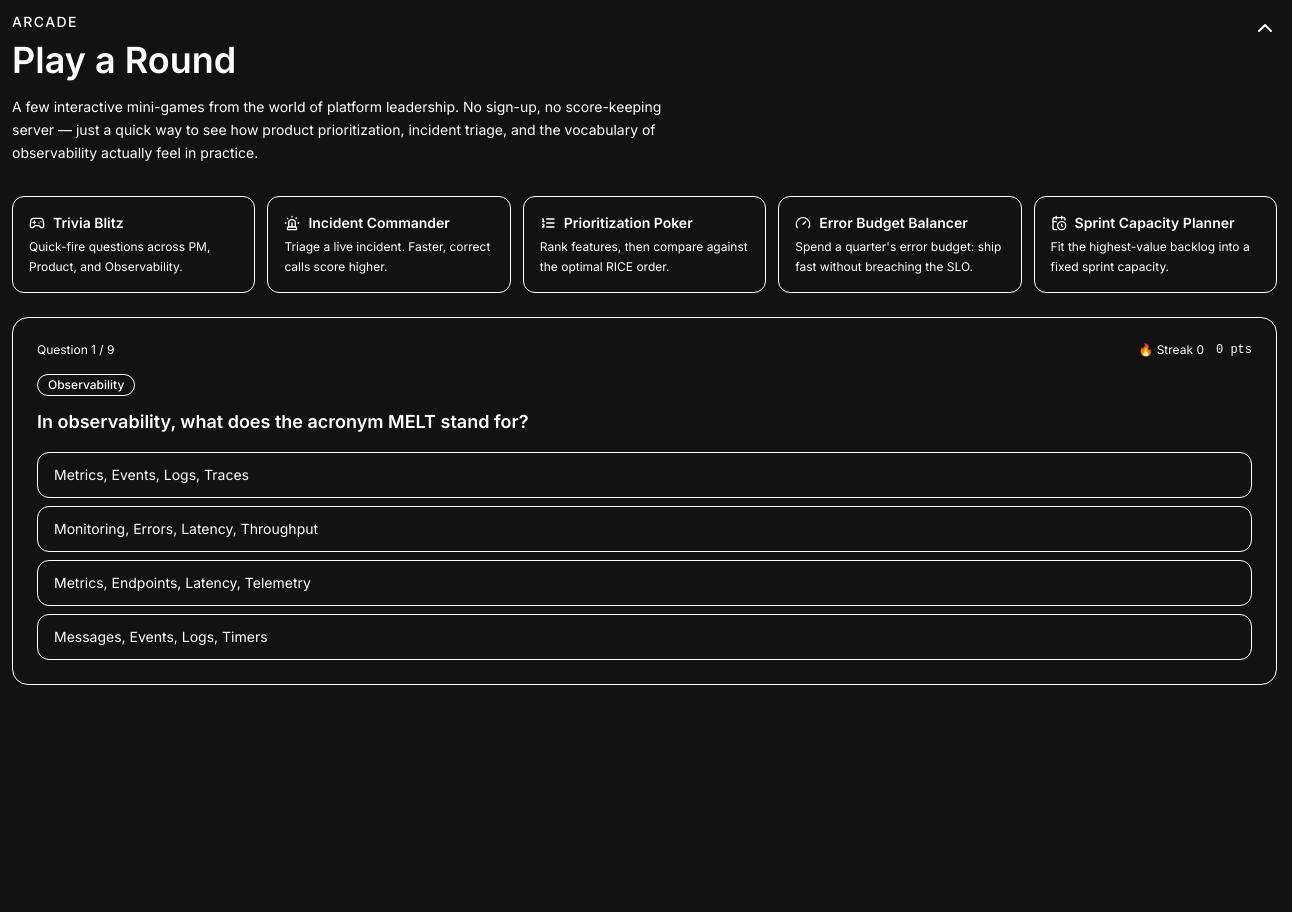
Test case: Arcade › switches games via the picker (single-panel mutual exclusion)
Click the tab "Prioritization Poker". click: (644, 245)
box: [523,196,766,293]
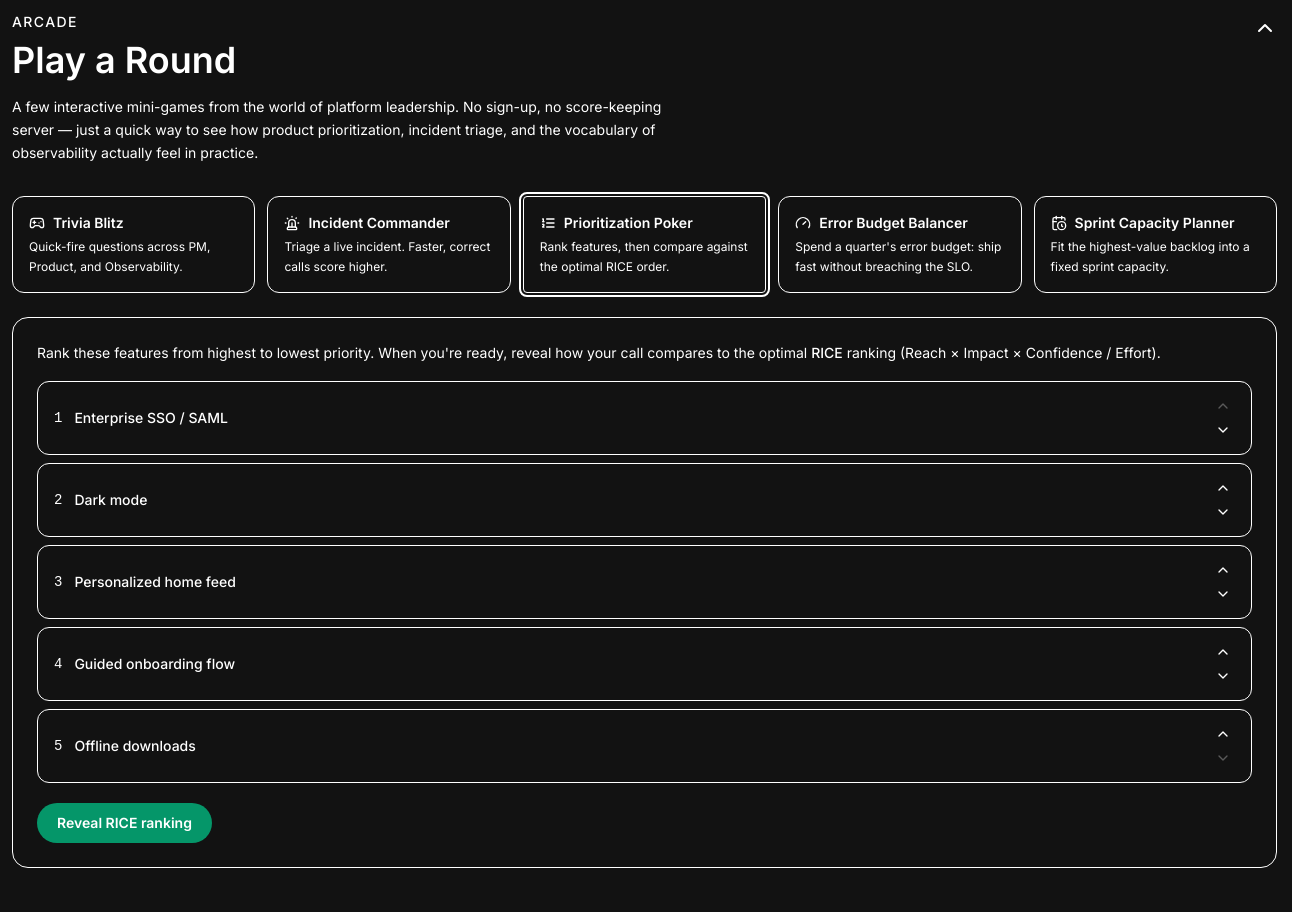
Now the button "Reveal RICE ranking" is shown, box [37,803,212,843]
Now the number of panels is 1, box [12,317,1277,868]
